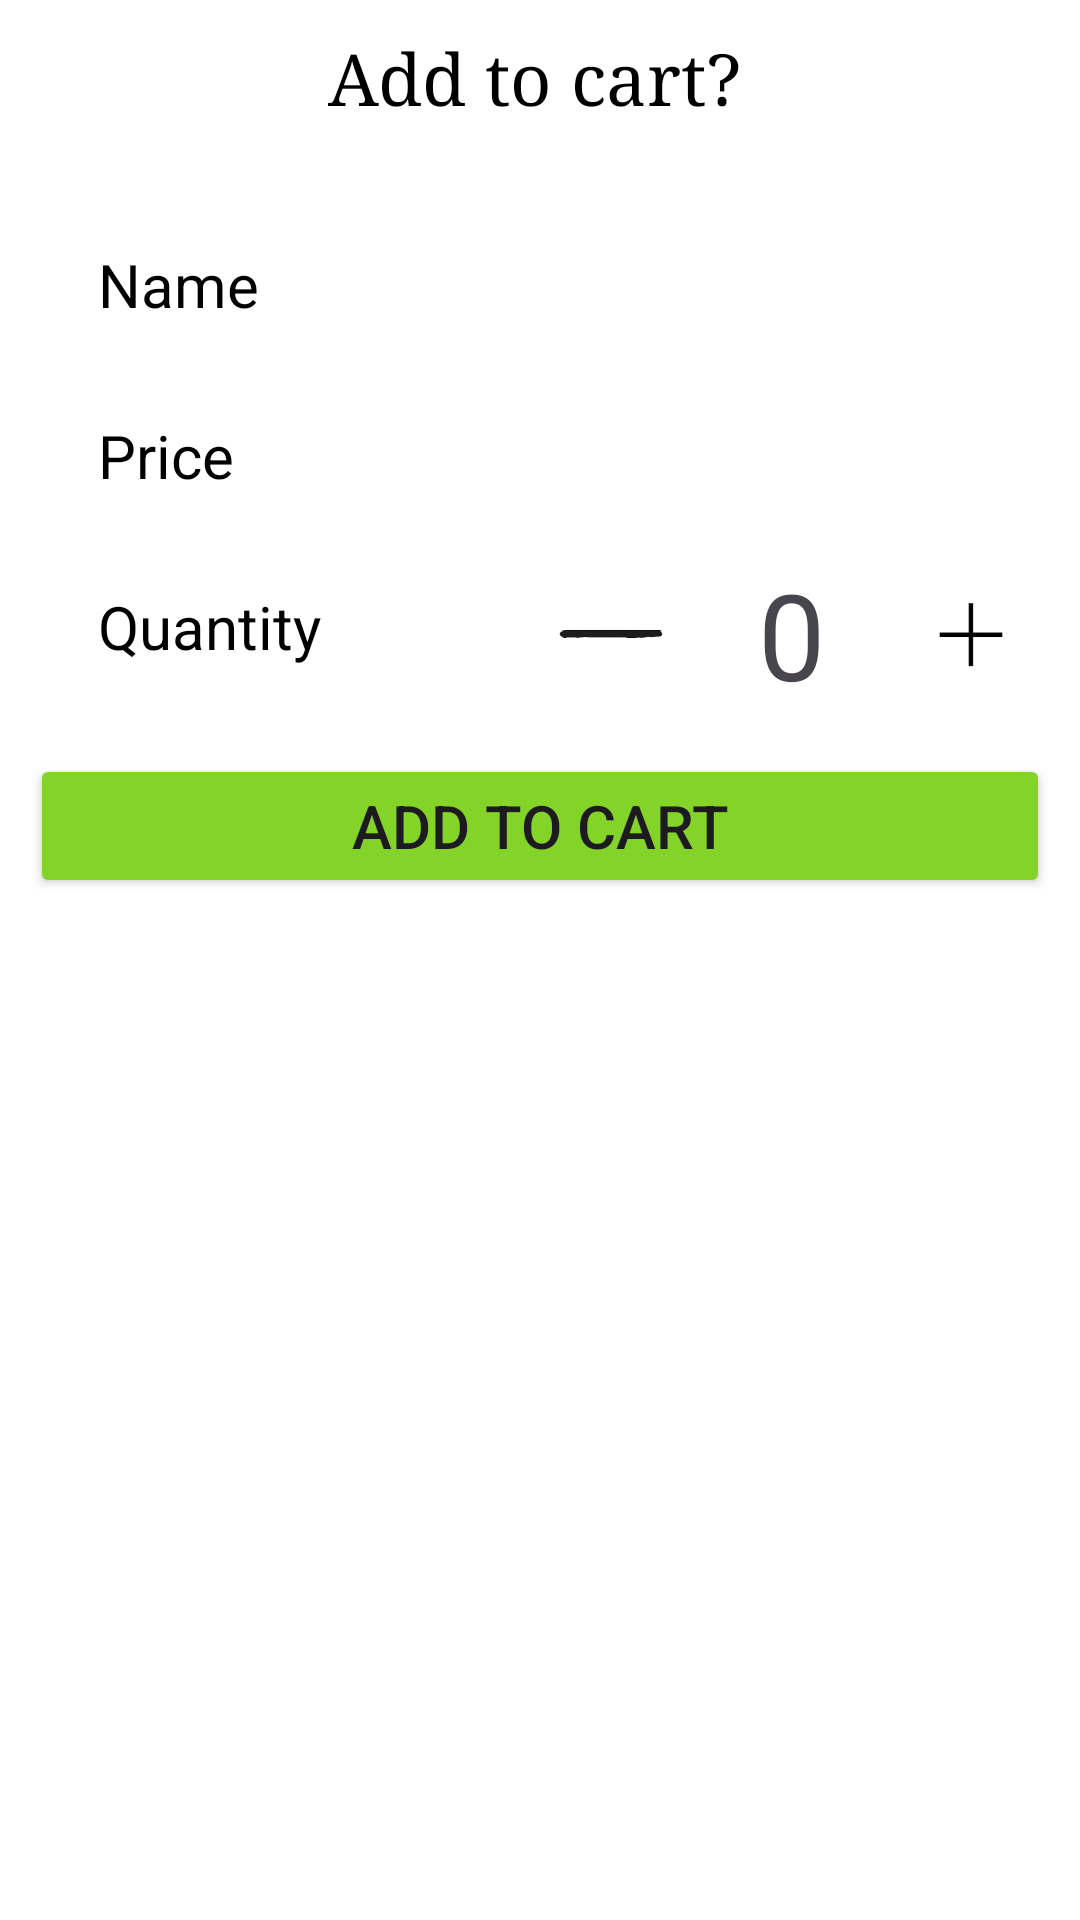

Where to tap for icons on this 1080*1920 app screen, as point (x, y):
plus: point (971, 635)
